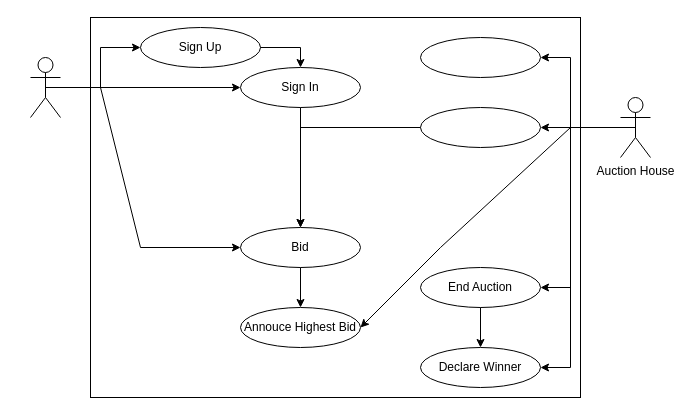
Some shapes in this 692 by 415 pixel diagram are drawn without their labels. The centre of each missing label's shape, as x and y in pixels:
Manage Auctions: point (480, 57)
Participant: point (45, 87)
Start New Auction: point (480, 127)
